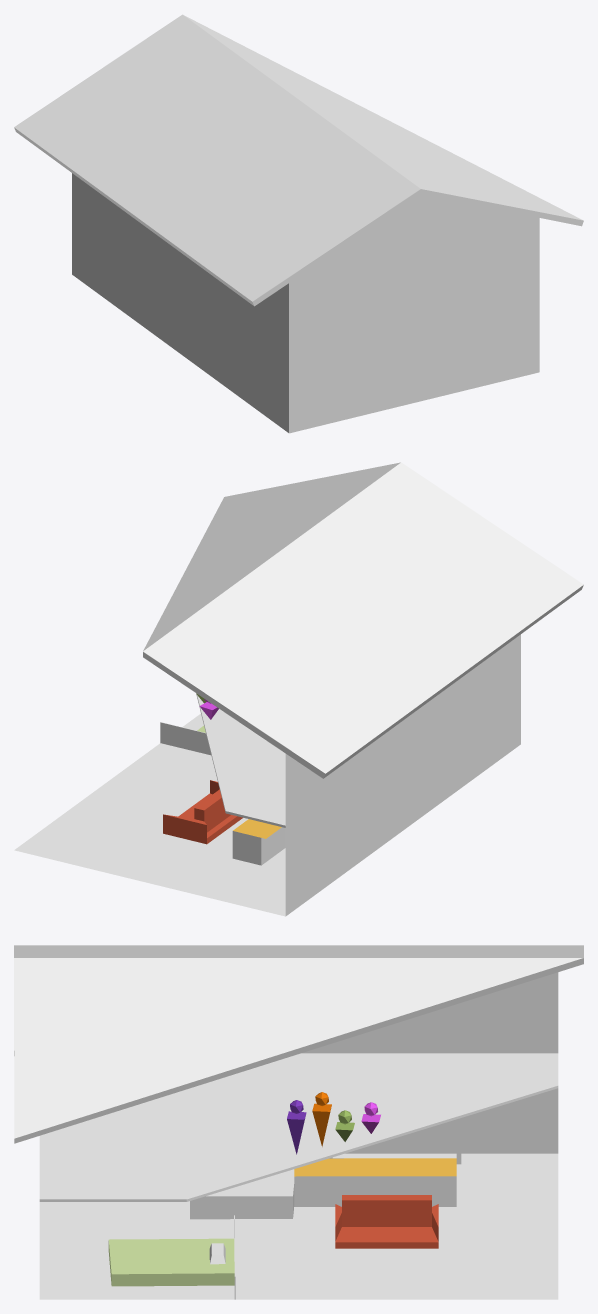
File: house.glb
3 renders of one model, top to bottom at view 1: azimuth 30°, elevation 25°; view 2: azimuth 150°, elevation 25°; view 3: azimuth 270°, elevation 25°, orthographic. The views are drawn at different scales.
Parts seen in each view (by area): view 1: Home; view 2: Home; view 3: Home, Person.
Part boxes in pixels (x1,y1,x2,y2): Home: (14, 14, 583, 433); Home: (14, 462, 583, 916); Home: (14, 945, 583, 1299); Person: (287, 1092, 380, 1154).
Bounding box in the file's own units: 11.65 × 7.47 × 14.5.
1 material, 1 textured.
